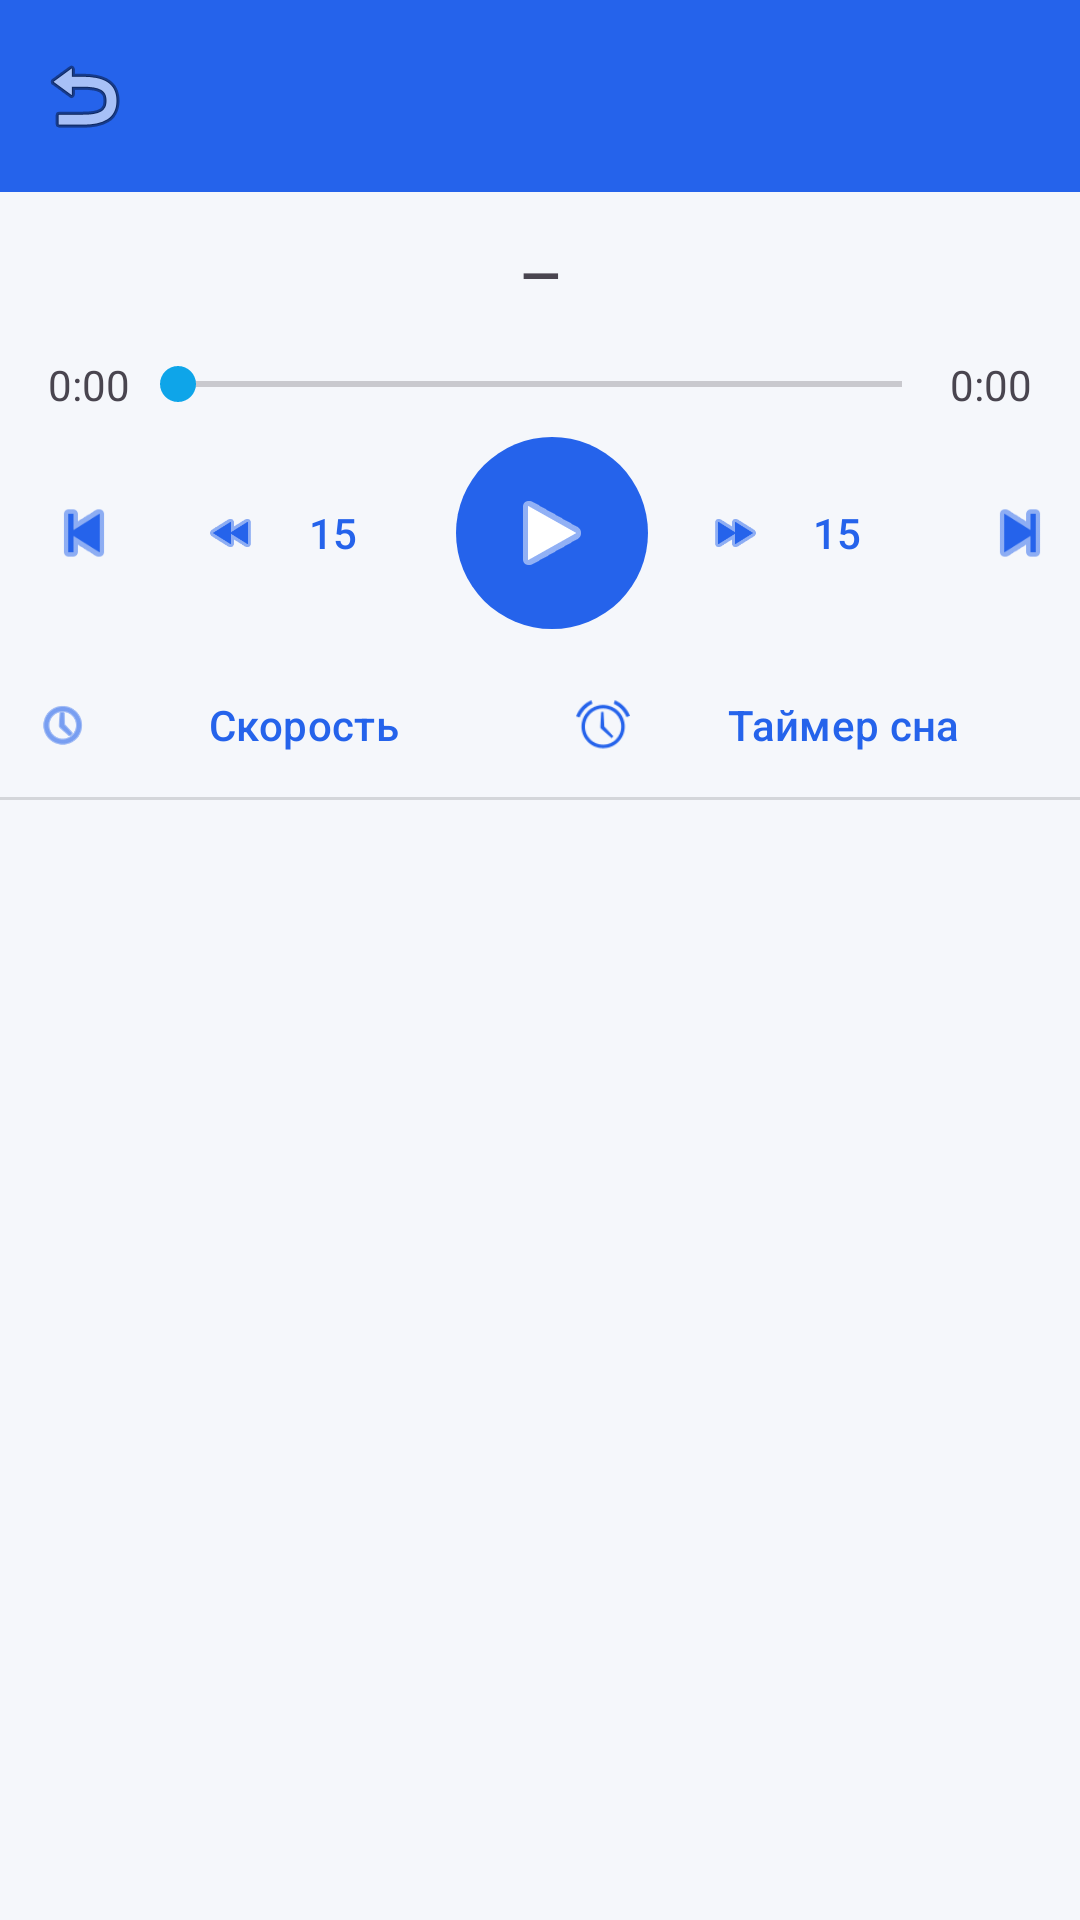

Screen size 1080px x 1920px. Icon name, then its box in pixels as region(x1, y1, x2, y2):
next: region(1000, 509, 1040, 557)
play: region(456, 437, 648, 629)
previous: region(64, 509, 104, 557)
